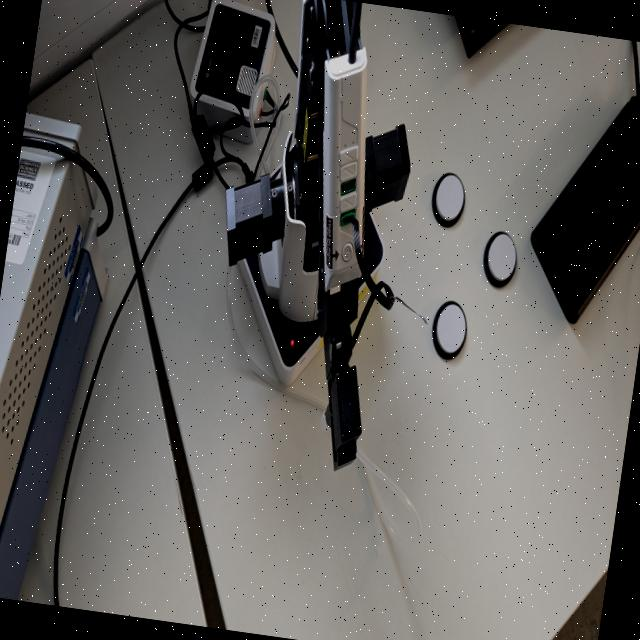Robot-end-effector-HF8z: (312, 356, 376, 480)
